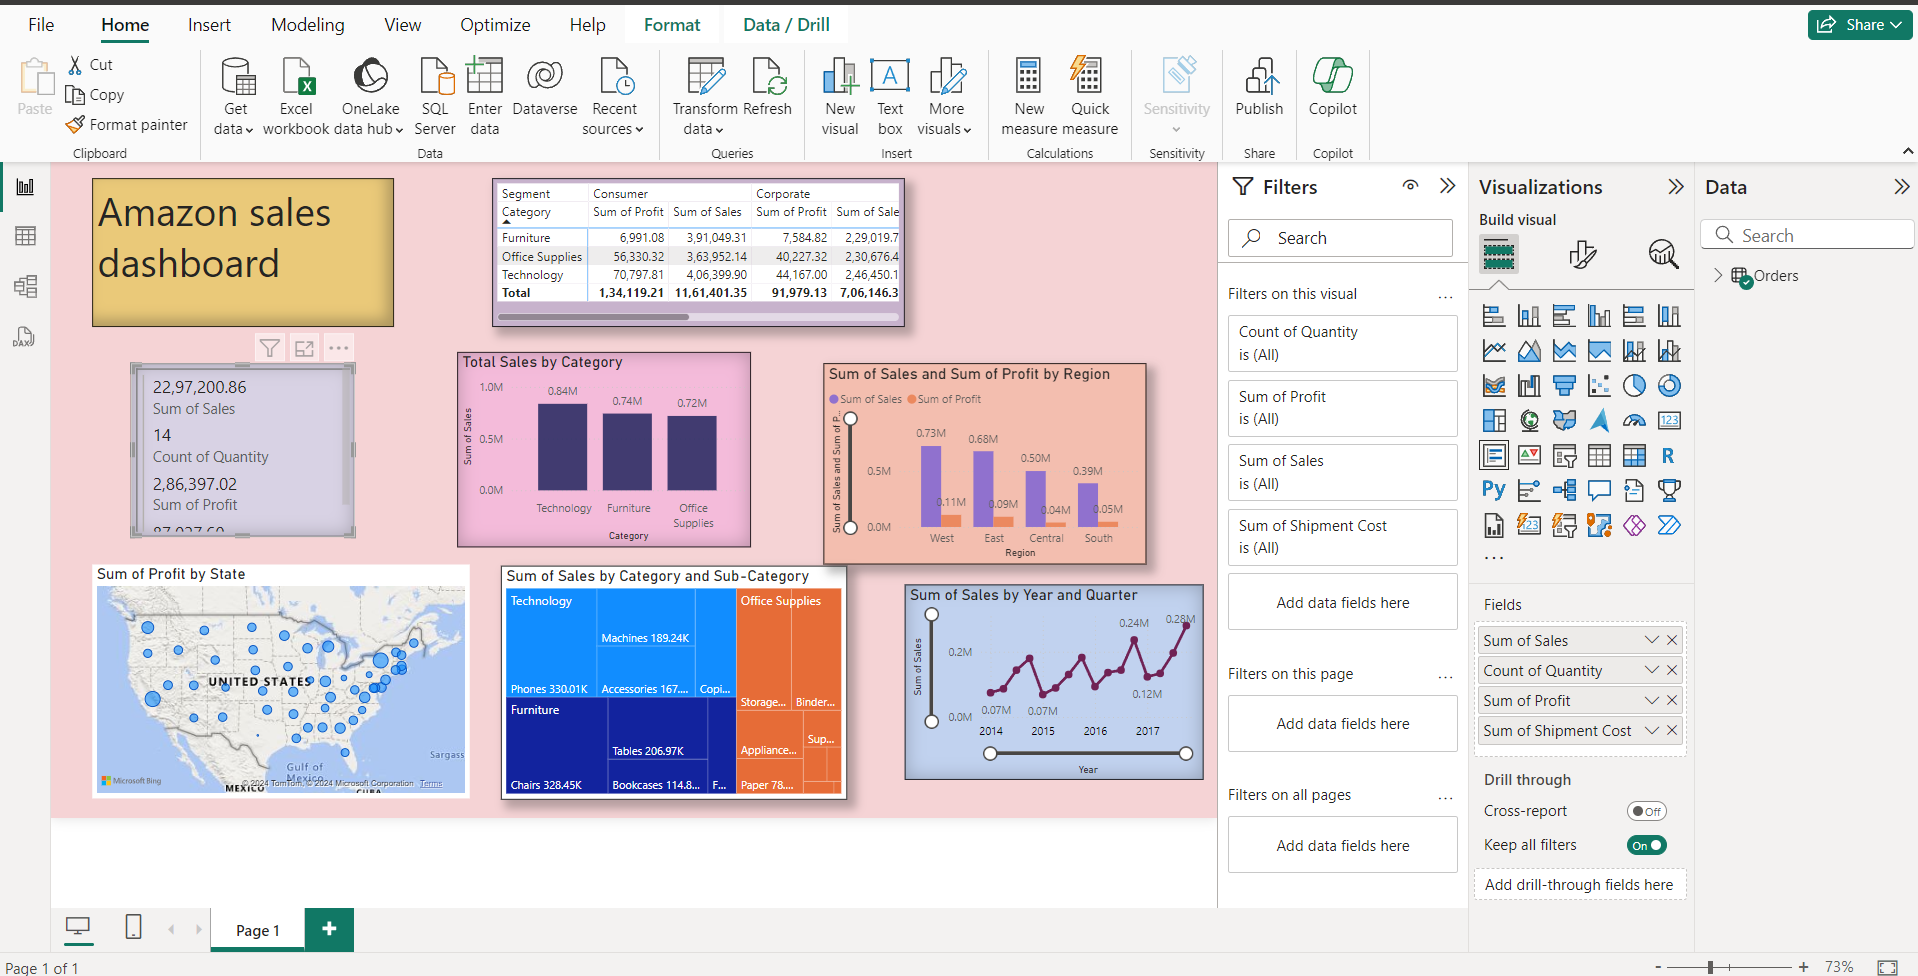

Layout of this report page (visuals, bound fields, positions):
{"tool":"powerbi","page":{"name":"Page 1","canvas":[1280,720],"ordinal":0},"visuals":[{"type":"multiRowCard","fields":{"Values":["Sum(Orders.Sales)","Count(Orders.Quantity)","Sum(Orders.Profit)","Sum(Orders.Shipment Cost)"]},"box":[87.8,220.9,245.6,190.7],"z":0},{"type":"columnChart","title":"Total Sales by Category","fields":{"Category":["Orders.Category"],"Y":["Sum(Orders.Sales)"]},"box":[446,208.6,322.5,214.1],"z":1000},{"type":"lineChart","fields":{"Category":["Orders.Order Date.Variation.Date Hierarchy.Year","Orders.Order Date.Variation.Date Hierarchy.Quarter","Orders.Order Date.Variation.Date Hierarchy.Month"],"Y":["Sum(Orders.Sales)"]},"box":[937.2,463.8,328,214.1],"z":2000},{"type":"pivotTable","fields":{"Rows":["Orders.Category"],"Values":["Sum(Orders.Profit)","Sum(Orders.Sales)"],"Columns":["Orders.Segment"]},"box":[484.4,17.8,452.8,163.3],"z":3000},{"type":"treemap","fields":{"Group":["Orders.Category"],"Details":["Orders.Sub-Category"],"Values":["Sum(Orders.Sales)"]},"box":[494,443.2,380.1,256.6],"z":4000},{"type":"clusteredColumnChart","fields":{"Category":["Orders.Region"],"Y":["Sum(Orders.Sales)","Sum(Orders.Profit)"]},"box":[848,220.9,354,220.9],"z":5000},{"type":"map","fields":{"Category":["Orders.State"],"Size":["Sum(Orders.Profit)"]},"box":[45.3,441.9,414.4,256.6],"z":6000},{"type":"textbox","box":[45,18,331,163],"z":7000}]}

Visuals, with their boxes on the page's 1280x720 design canvas (x1, y1, x2, y2). These are canvas units, not pixel positions in the 1918x976 screenshot, which may show the page scaled, cropped or inside an application window:
multiRowCard - Sum(Orders.Sales) x Count(Orders.Quantity): [88, 221, 333, 412]
"Total Sales by Category" columnChart: [446, 209, 768, 423]
lineChart - Orders.Order Date.Variation.Date Hierarchy.Year x Orders.Order Date.Variation.Date Hierarchy.Quarter: [937, 464, 1265, 678]
pivotTable - Orders.Category x Sum(Orders.Profit): [484, 18, 937, 181]
treemap - Orders.Category x Orders.Sub-Category: [494, 443, 874, 700]
clusteredColumnChart - Orders.Region x Sum(Orders.Sales): [848, 221, 1202, 442]
map - Orders.State x Sum(Orders.Profit): [45, 442, 460, 698]
textbox: [45, 18, 376, 181]
